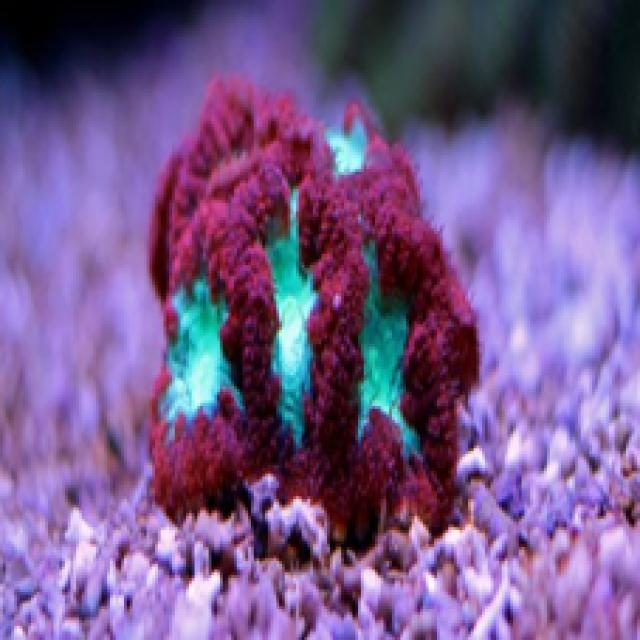Bleached: (1, 280, 638, 638)
Healthy: (150, 77, 477, 545)
